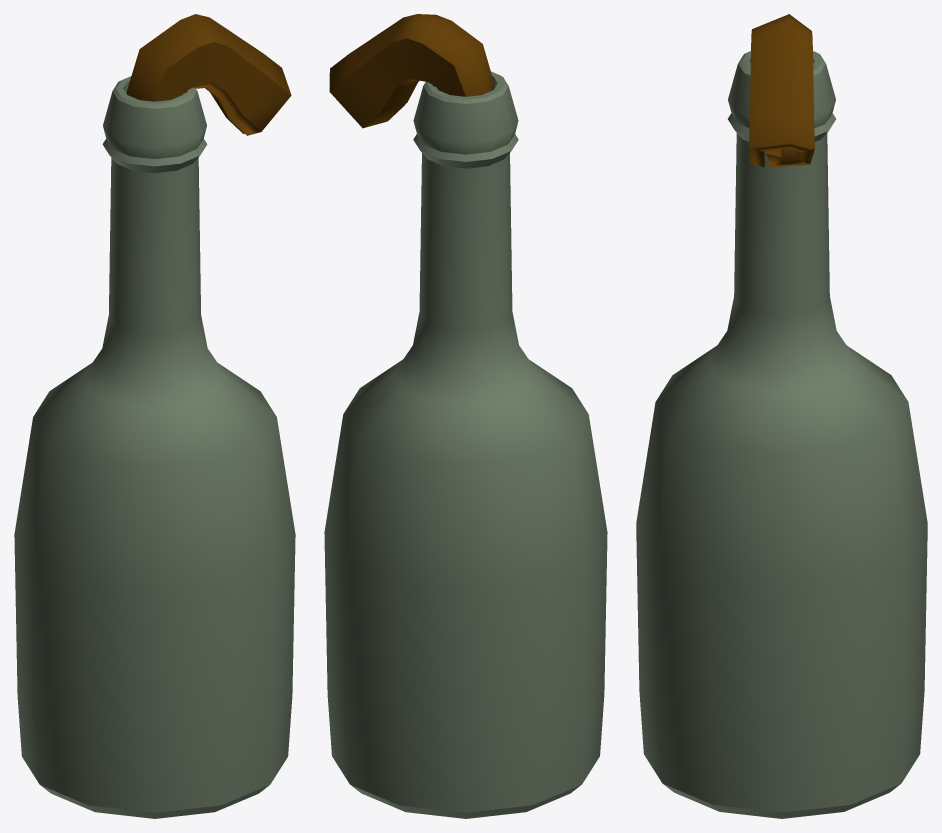
File: Molotov_01.fbx
3 views of the same model, side by side, from view 1: azimuth 30°, elevation 25°; view 2: azimuth 150°, elevation 25°; view 3: azimuth 270°, elevation 25° (orthographic). The views are drawn at different scales.
Parts seen in each view (by area): view 1: Molotov1; view 2: Molotov1; view 3: Molotov1.
Boxes of the visible parts, bbox=[...] form: Molotov1: bbox=[14, 14, 295, 818]; Molotov1: bbox=[324, 14, 607, 818]; Molotov1: bbox=[636, 14, 927, 818].
Size of the model in its own units: 0.1509 by 0.4224 by 0.1453.
